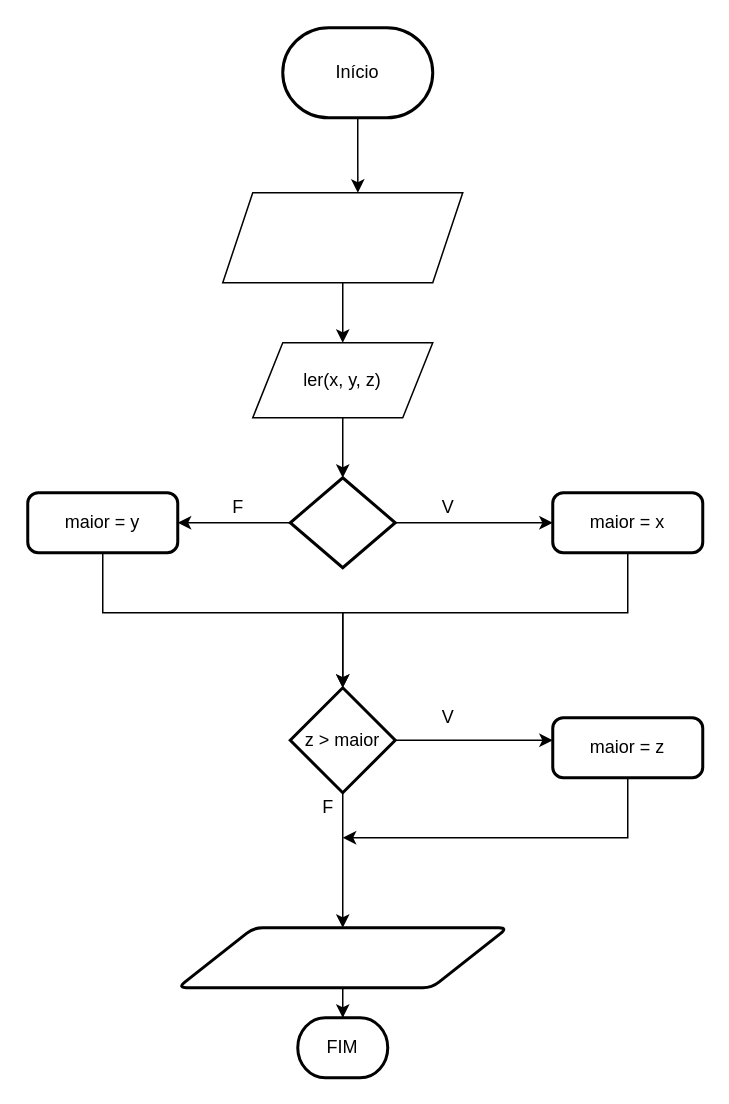
The diagram is 729 pixels wide and 1104 high, and some of its shapes have lost their labels. Each missing label, with the box of its shape:
escrever("Insira 3 inteiros"): (221, 191, 463, 283)
escrever("Maior= ", maior): (176, 926, 508, 988)
x > y: (288, 476, 396, 568)
